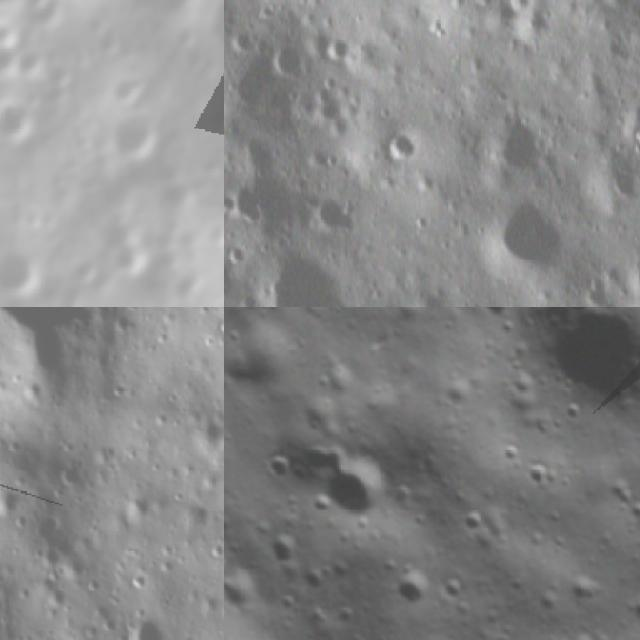crater: (518, 307, 640, 434), (313, 447, 411, 543), (488, 194, 570, 273), (96, 100, 173, 172), (260, 252, 360, 307), (484, 108, 552, 185), (292, 423, 363, 490), (115, 0, 214, 38), (0, 84, 48, 157), (559, 560, 616, 619), (0, 242, 51, 307), (385, 562, 442, 618), (224, 557, 272, 622), (312, 187, 364, 238), (515, 452, 564, 499), (436, 370, 483, 416), (505, 361, 551, 406), (264, 526, 308, 570), (268, 40, 314, 82), (436, 568, 479, 611), (119, 604, 168, 640), (257, 448, 298, 491), (453, 502, 494, 543), (384, 128, 426, 166), (554, 392, 593, 430), (296, 561, 334, 599), (492, 436, 530, 474), (608, 161, 640, 201), (224, 535, 244, 595), (224, 238, 243, 301), (326, 35, 358, 72), (472, 307, 521, 329), (228, 26, 259, 60), (622, 578, 640, 632), (201, 211, 224, 253), (0, 550, 15, 588), (466, 0, 505, 8)
